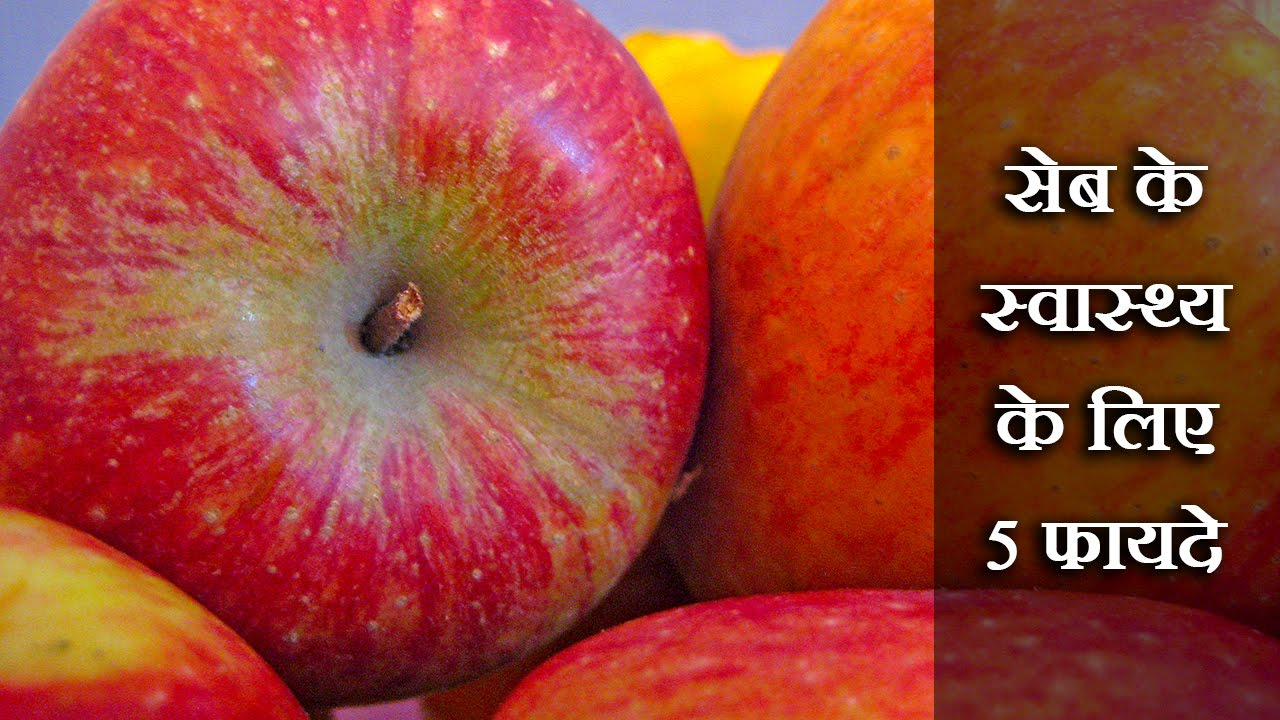apple: (19, 1, 719, 708)
